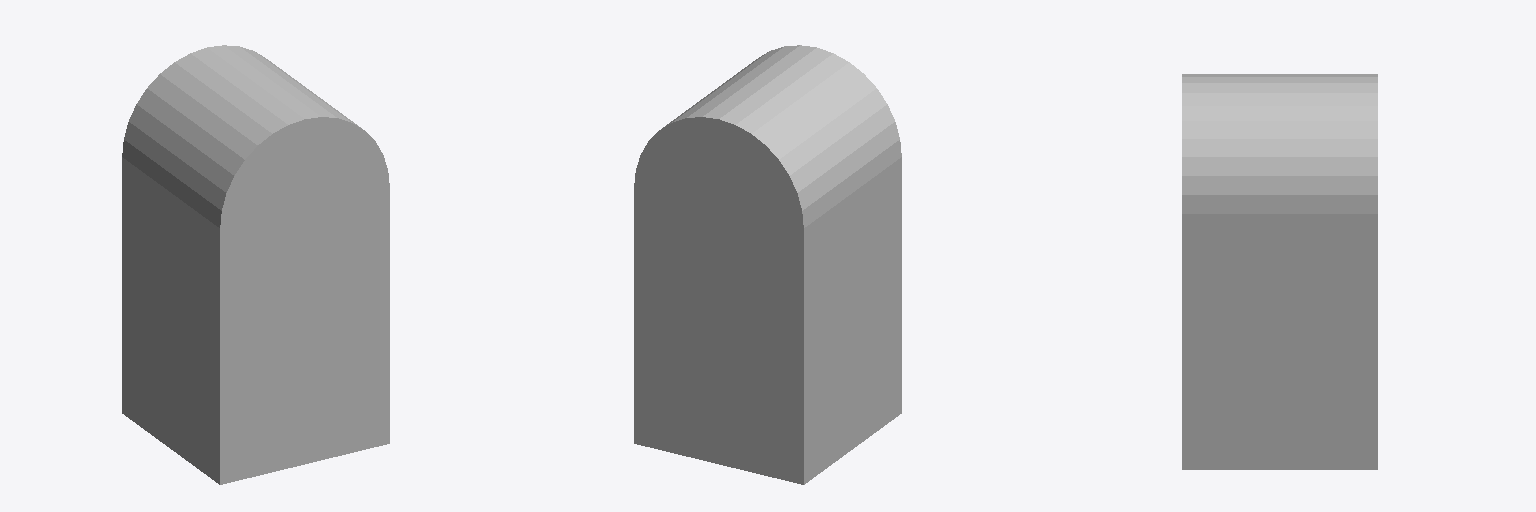
File: Recyclage.obj
3 renders of one model, left to right at view 1: azimuth 30°, elevation 25°; view 2: azimuth 150°, elevation 25°; view 3: azimuth 270°, elevation 25°, orthographic.
Visible parts, largest first — view 1: Cube; view 2: Cube; view 3: Cube.
Part boxes in pixels (left/top/right/bottom): Cube: left=122, top=45, right=389, bottom=484; Cube: left=634, top=45, right=901, bottom=484; Cube: left=1182, top=74, right=1377, bottom=469.
Bounding box in the file's own units: 0.7205 × 1.4 × 0.7205.